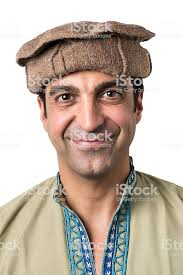middle_eastern_male: (40, 65, 153, 181)
